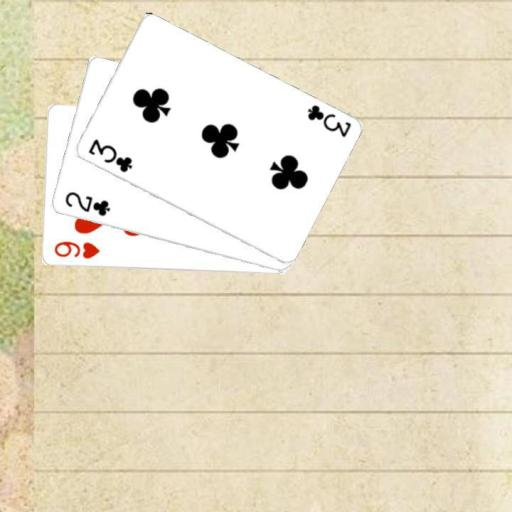2C: (61, 189, 111, 219)
3C: (85, 136, 134, 174), (304, 101, 353, 139)
9H: (50, 238, 101, 261)
